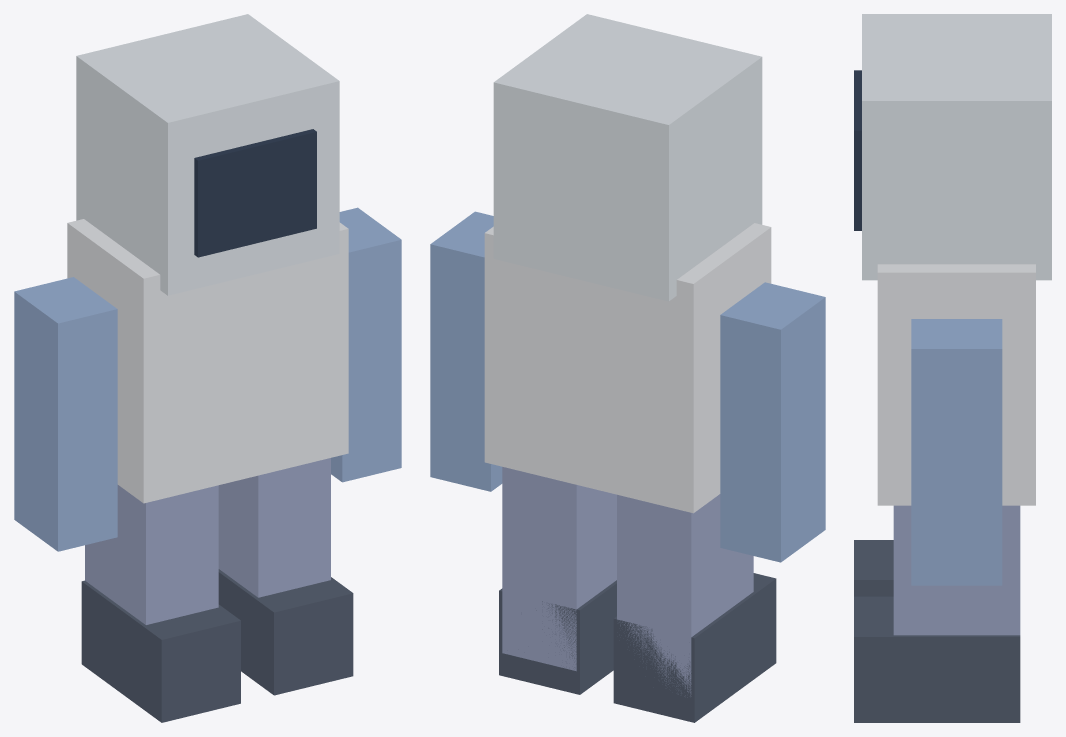
3 renders of one model, left to right at view 1: azimuth 30°, elevation 25°; view 2: azimuth 150°, elevation 25°; view 3: azimuth 270°, elevation 25°, orthographic. The views are drawn at different scales.
Parts seen in each view (by area): view 1: placeholder_person; view 2: placeholder_person; view 3: placeholder_person.
Part boxes in pixels (x1,y1,x2,y2): placeholder_person: [14, 14, 401, 722]; placeholder_person: [430, 14, 825, 722]; placeholder_person: [854, 14, 1051, 722].
Bounding box in the file's own units: 1.04 × 1.72 × 0.5.
